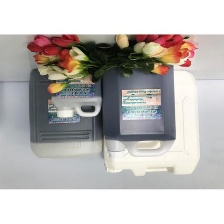cleaning_solution: (101, 67, 203, 176), (100, 57, 178, 161), (26, 65, 105, 160), (48, 52, 104, 120)
